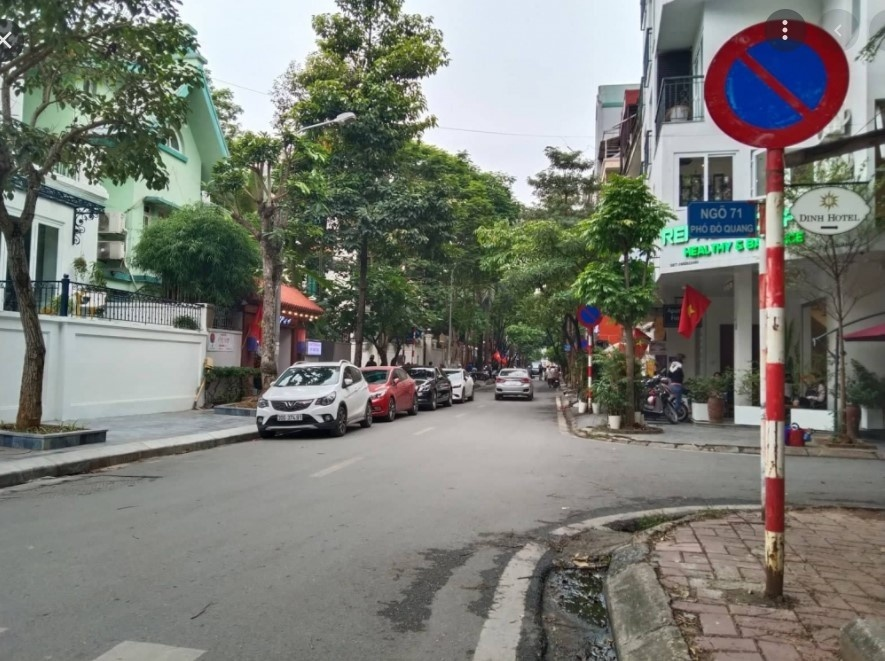Cam do xe: (703, 19, 848, 150), (578, 300, 602, 327)
